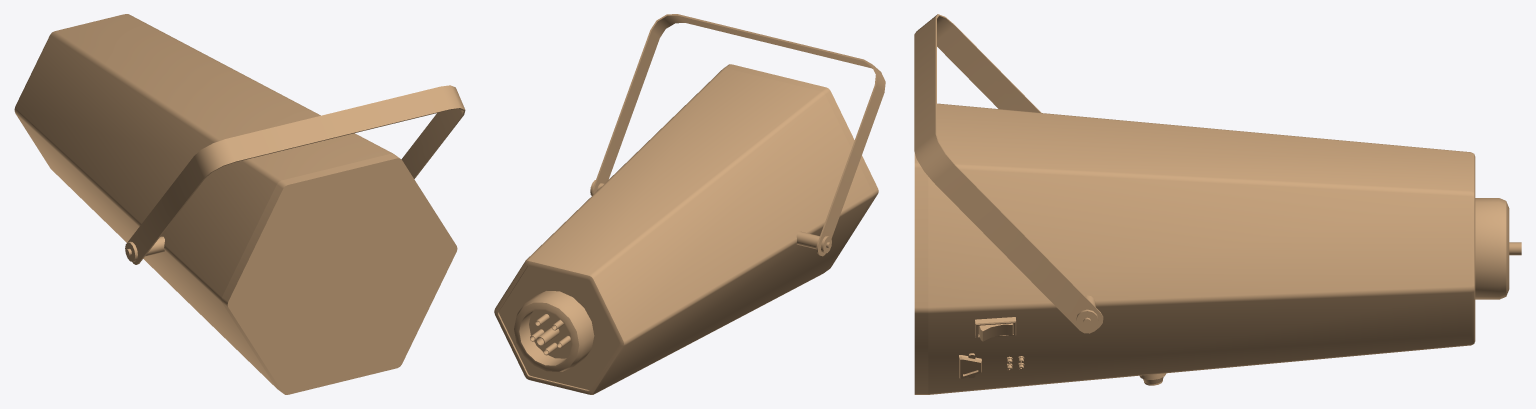
Rendered from Flamer.fbx.
3 views of the same model, side by side, from view 1: azimuth 30°, elevation 25°; view 2: azimuth 150°, elevation 25°; view 3: azimuth 270°, elevation 25° (orthographic). The views are drawn at different scales.
Visible parts, largest first — view 1: SM_Flamer, SM_Flamer_Handle; view 2: SM_Flamer, SM_Flamer_Handle; view 3: SM_Flamer, SM_Flamer_Handle.
Part boxes in pixels (x1,y1,x2,y2): SM_Flamer: (14, 14, 457, 394); SM_Flamer_Handle: (128, 85, 465, 264); SM_Flamer: (494, 64, 878, 394); SM_Flamer_Handle: (592, 14, 885, 256); SM_Flamer: (914, 103, 1521, 394); SM_Flamer_Handle: (914, 14, 1103, 333).
Bounding box in the file's own units: 32.38 × 31.4 × 56.33.
